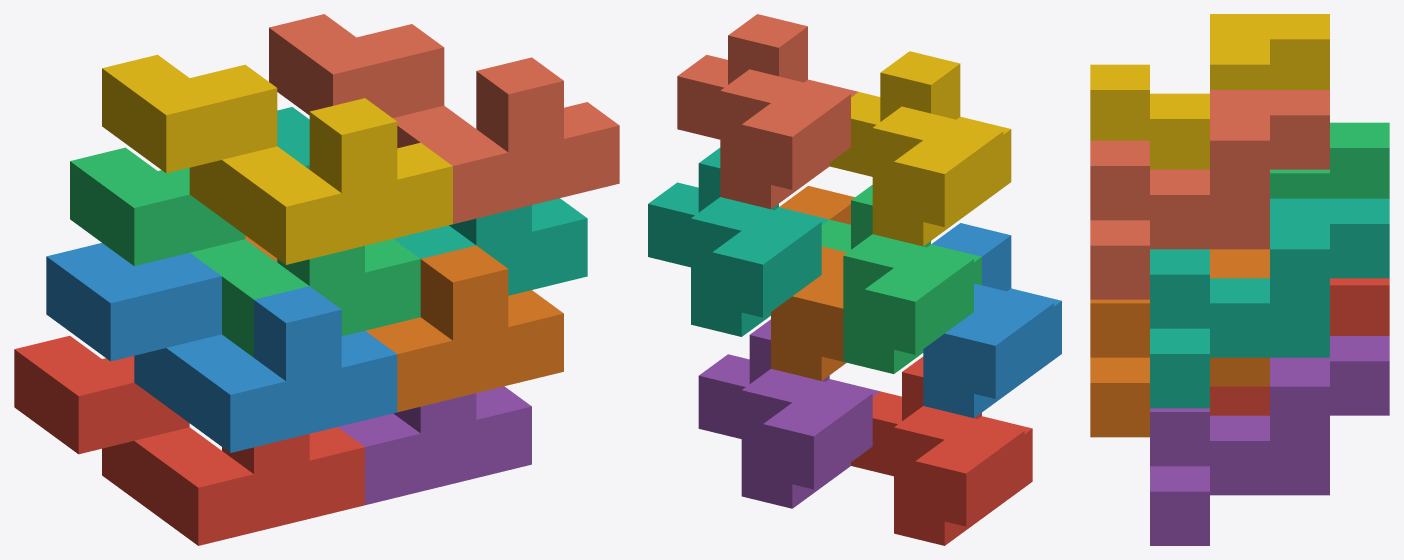
Rendered from tiling.obj.
3 views of the same model, side by side, from view 1: azimuth 30°, elevation 25°; view 2: azimuth 150°, elevation 25°; view 3: azimuth 270°, elevation 25° (orthographic). The views are drawn at different scales.
Parts seen in each view (by area): view 1: copy_1_domain_4, copy_1_domain_2, copy_1_domain_8, copy_1_domain_1, copy_1_domain_3, copy_1_domain_6, copy_1_domain_5, copy_1_domain_7; view 2: copy_1_domain_8, copy_1_domain_4, copy_1_domain_5, copy_1_domain_7, copy_1_domain_1, copy_1_domain_3, copy_1_domain_2, copy_1_domain_6; view 3: copy_1_domain_7, copy_1_domain_8, copy_1_domain_5, copy_1_domain_4, copy_1_domain_6, copy_1_domain_3, copy_1_domain_1.
Part boxes in pixels (x1=…): copy_1_domain_4: x1=102, y1=54, x2=452, y2=264; copy_1_domain_2: x1=46, y1=243, x2=397, y2=452; copy_1_domain_8: x1=269, y1=14, x2=619, y2=224; copy_1_domain_1: x1=14, y1=335, x2=364, y2=545; copy_1_domain_3: x1=70, y1=147, x2=420, y2=357; copy_1_domain_6: x1=245, y1=235, x2=563, y2=412; copy_1_domain_5: x1=338, y1=386, x2=531, y2=505; copy_1_domain_7: x1=277, y1=107, x2=587, y2=295; copy_1_domain_8: x1=677, y1=14, x2=858, y2=209; copy_1_domain_4: x1=829, y1=51, x2=1011, y2=246; copy_1_domain_5: x1=698, y1=319, x2=879, y2=508; copy_1_domain_7: x1=648, y1=148, x2=829, y2=336; copy_1_domain_1: x1=851, y1=356, x2=1032, y2=545; copy_1_domain_3: x1=821, y1=185, x2=981, y2=373; copy_1_domain_2: x1=923, y1=223, x2=1061, y2=417; copy_1_domain_6: x1=771, y1=186, x2=854, y2=380; copy_1_domain_7: x1=1150, y1=198, x2=1389, y2=408; copy_1_domain_8: x1=1090, y1=90, x2=1329, y2=299; copy_1_domain_5: x1=1150, y1=336, x2=1389, y2=545; copy_1_domain_4: x1=1090, y1=14, x2=1329, y2=169; copy_1_domain_6: x1=1090, y1=249, x2=1269, y2=437; copy_1_domain_3: x1=1270, y1=122, x2=1389, y2=198; copy_1_domain_1: x1=1210, y1=278, x2=1389, y2=415.
Size of the model in its own units: 8 by 7 by 5.
